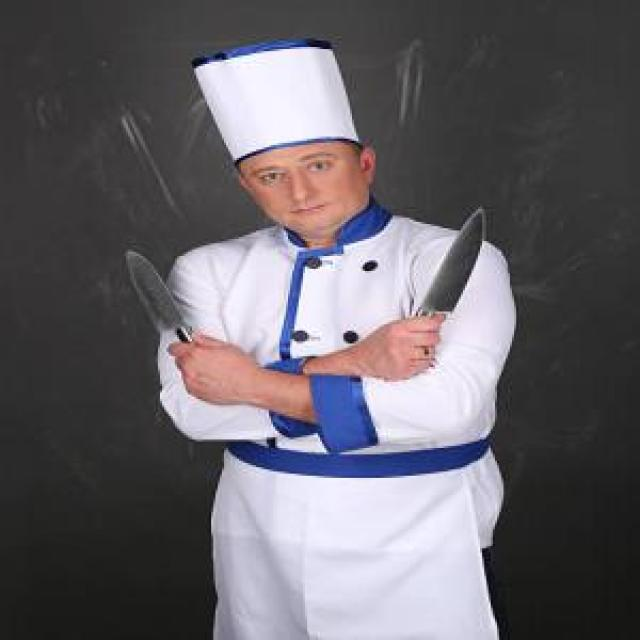knife: (394, 207, 492, 365), (119, 243, 221, 383)
